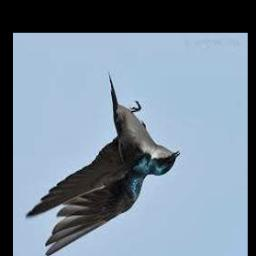Swallow: (26, 73, 179, 256)
